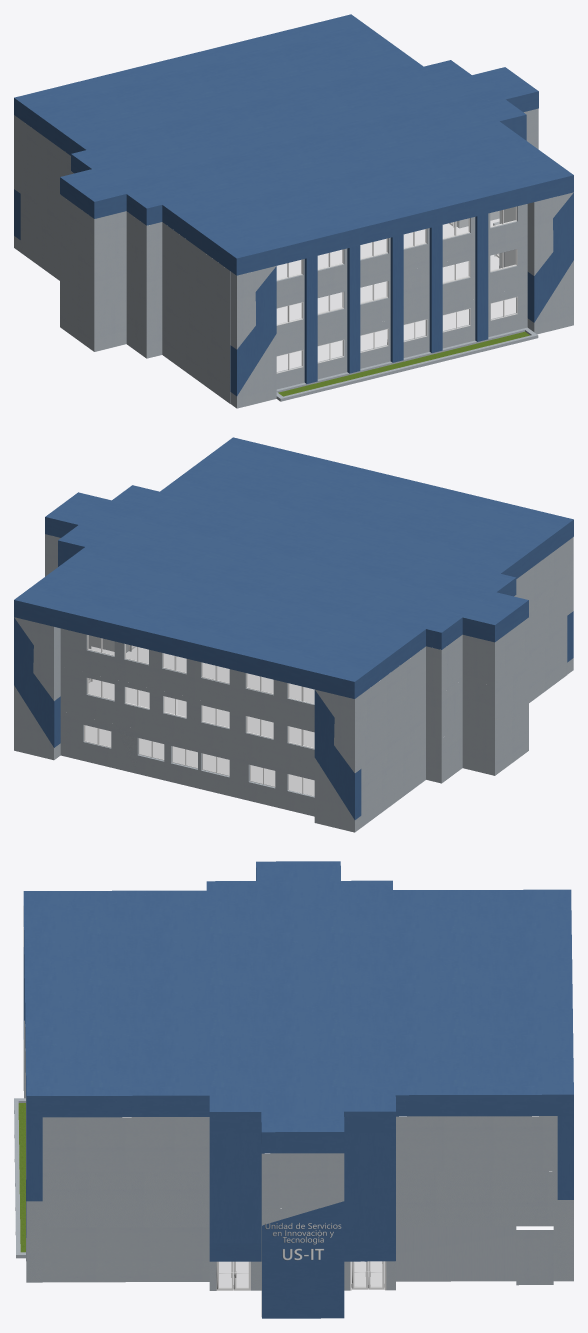
The model's file is USIT-Ext-Op.glb.
3 views of the same model, one above another, from view 1: azimuth 30°, elevation 25°; view 2: azimuth 150°, elevation 25°; view 3: azimuth 270°, elevation 25° (orthographic). The views are drawn at different scales.
Parts seen in each view (by area): view 1: Pilares_Gde_Ext, Vidrio_Ex, Marcos_Ext, Tierrita_Ext; view 2: Pilares_Gde_Ext, Vidrio_Ex, Marcos_Ext; view 3: Pilares_Gde_Ext, Vidrio_Ex, Marcos_Ext, Tierrita_Ext, USIT-PALNE.
Boxes of the visible parts, <box> form: Pilares_Gde_Ext: <box>14,14,573,408</box>; Vidrio_Ex: <box>277,207,517,372</box>; Marcos_Ext: <box>276,206,517,373</box>; Tierrita_Ext: <box>278,331,529,396</box>; Pilares_Gde_Ext: <box>14,437,573,832</box>; Vidrio_Ex: <box>84,635,314,795</box>; Marcos_Ext: <box>84,635,314,796</box>; Pilares_Gde_Ext: <box>14,861,573,1318</box>; Vidrio_Ex: <box>219,1261,381,1287</box>; Marcos_Ext: <box>216,1261,386,1290</box>; Tierrita_Ext: <box>18,1103,25,1252</box>; USIT-PALNE: <box>265,1223,341,1260</box>.
Bounding box in the file's own units: 0.3464 × 0.1111 × 0.3023.
6 materials, 4 textured.
